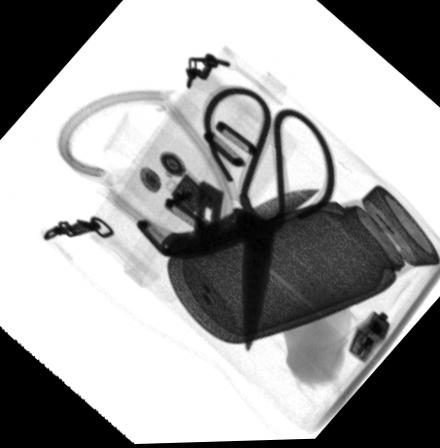Knife: (159, 189, 321, 262)
Scissors: (204, 91, 337, 354)
